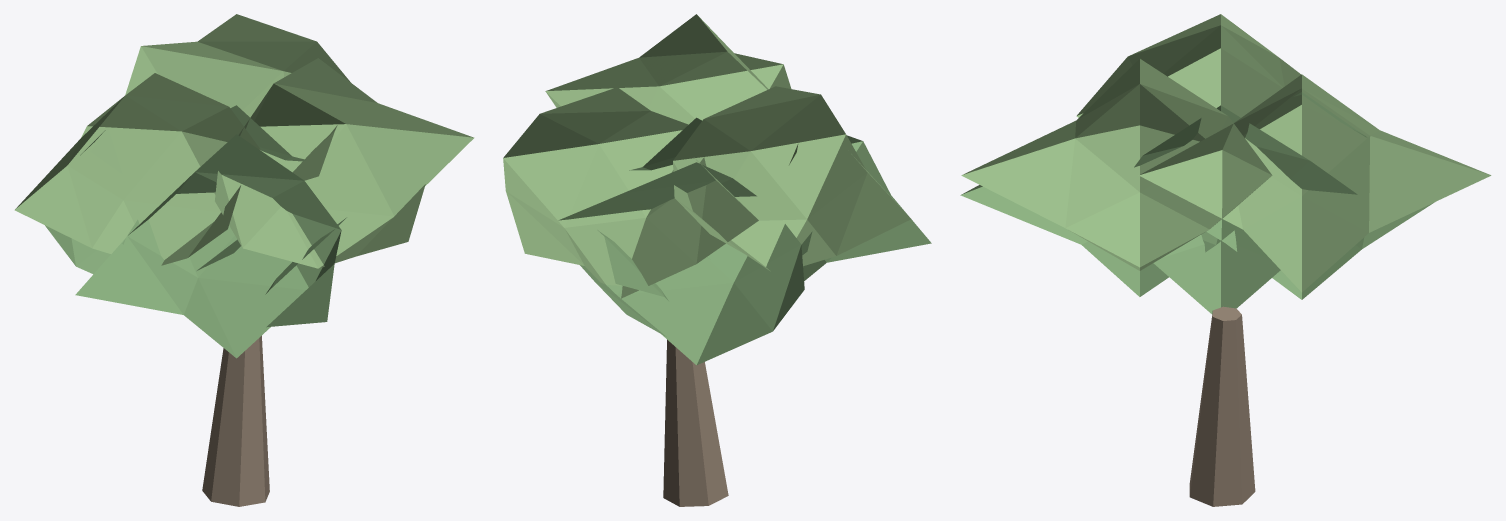
File: broadleaf_v05.glb
The picture shows the model from 3 angles, left to right: view 1: azimuth 30°, elevation 25°; view 2: azimuth 150°, elevation 25°; view 3: azimuth 270°, elevation 25°; orthographic projection. The views are drawn at different scales.
Parts seen in each view (by area): view 1: lod0; view 2: lod0; view 3: lod0.
Boxes of the visible parts, <box> form: lod0: <box>14,14,474,506</box>; lod0: <box>503,14,931,506</box>; lod0: <box>960,14,1491,506</box>.
Size of what is drawn, in the model's own units: 5 by 5.22 by 5.54.
